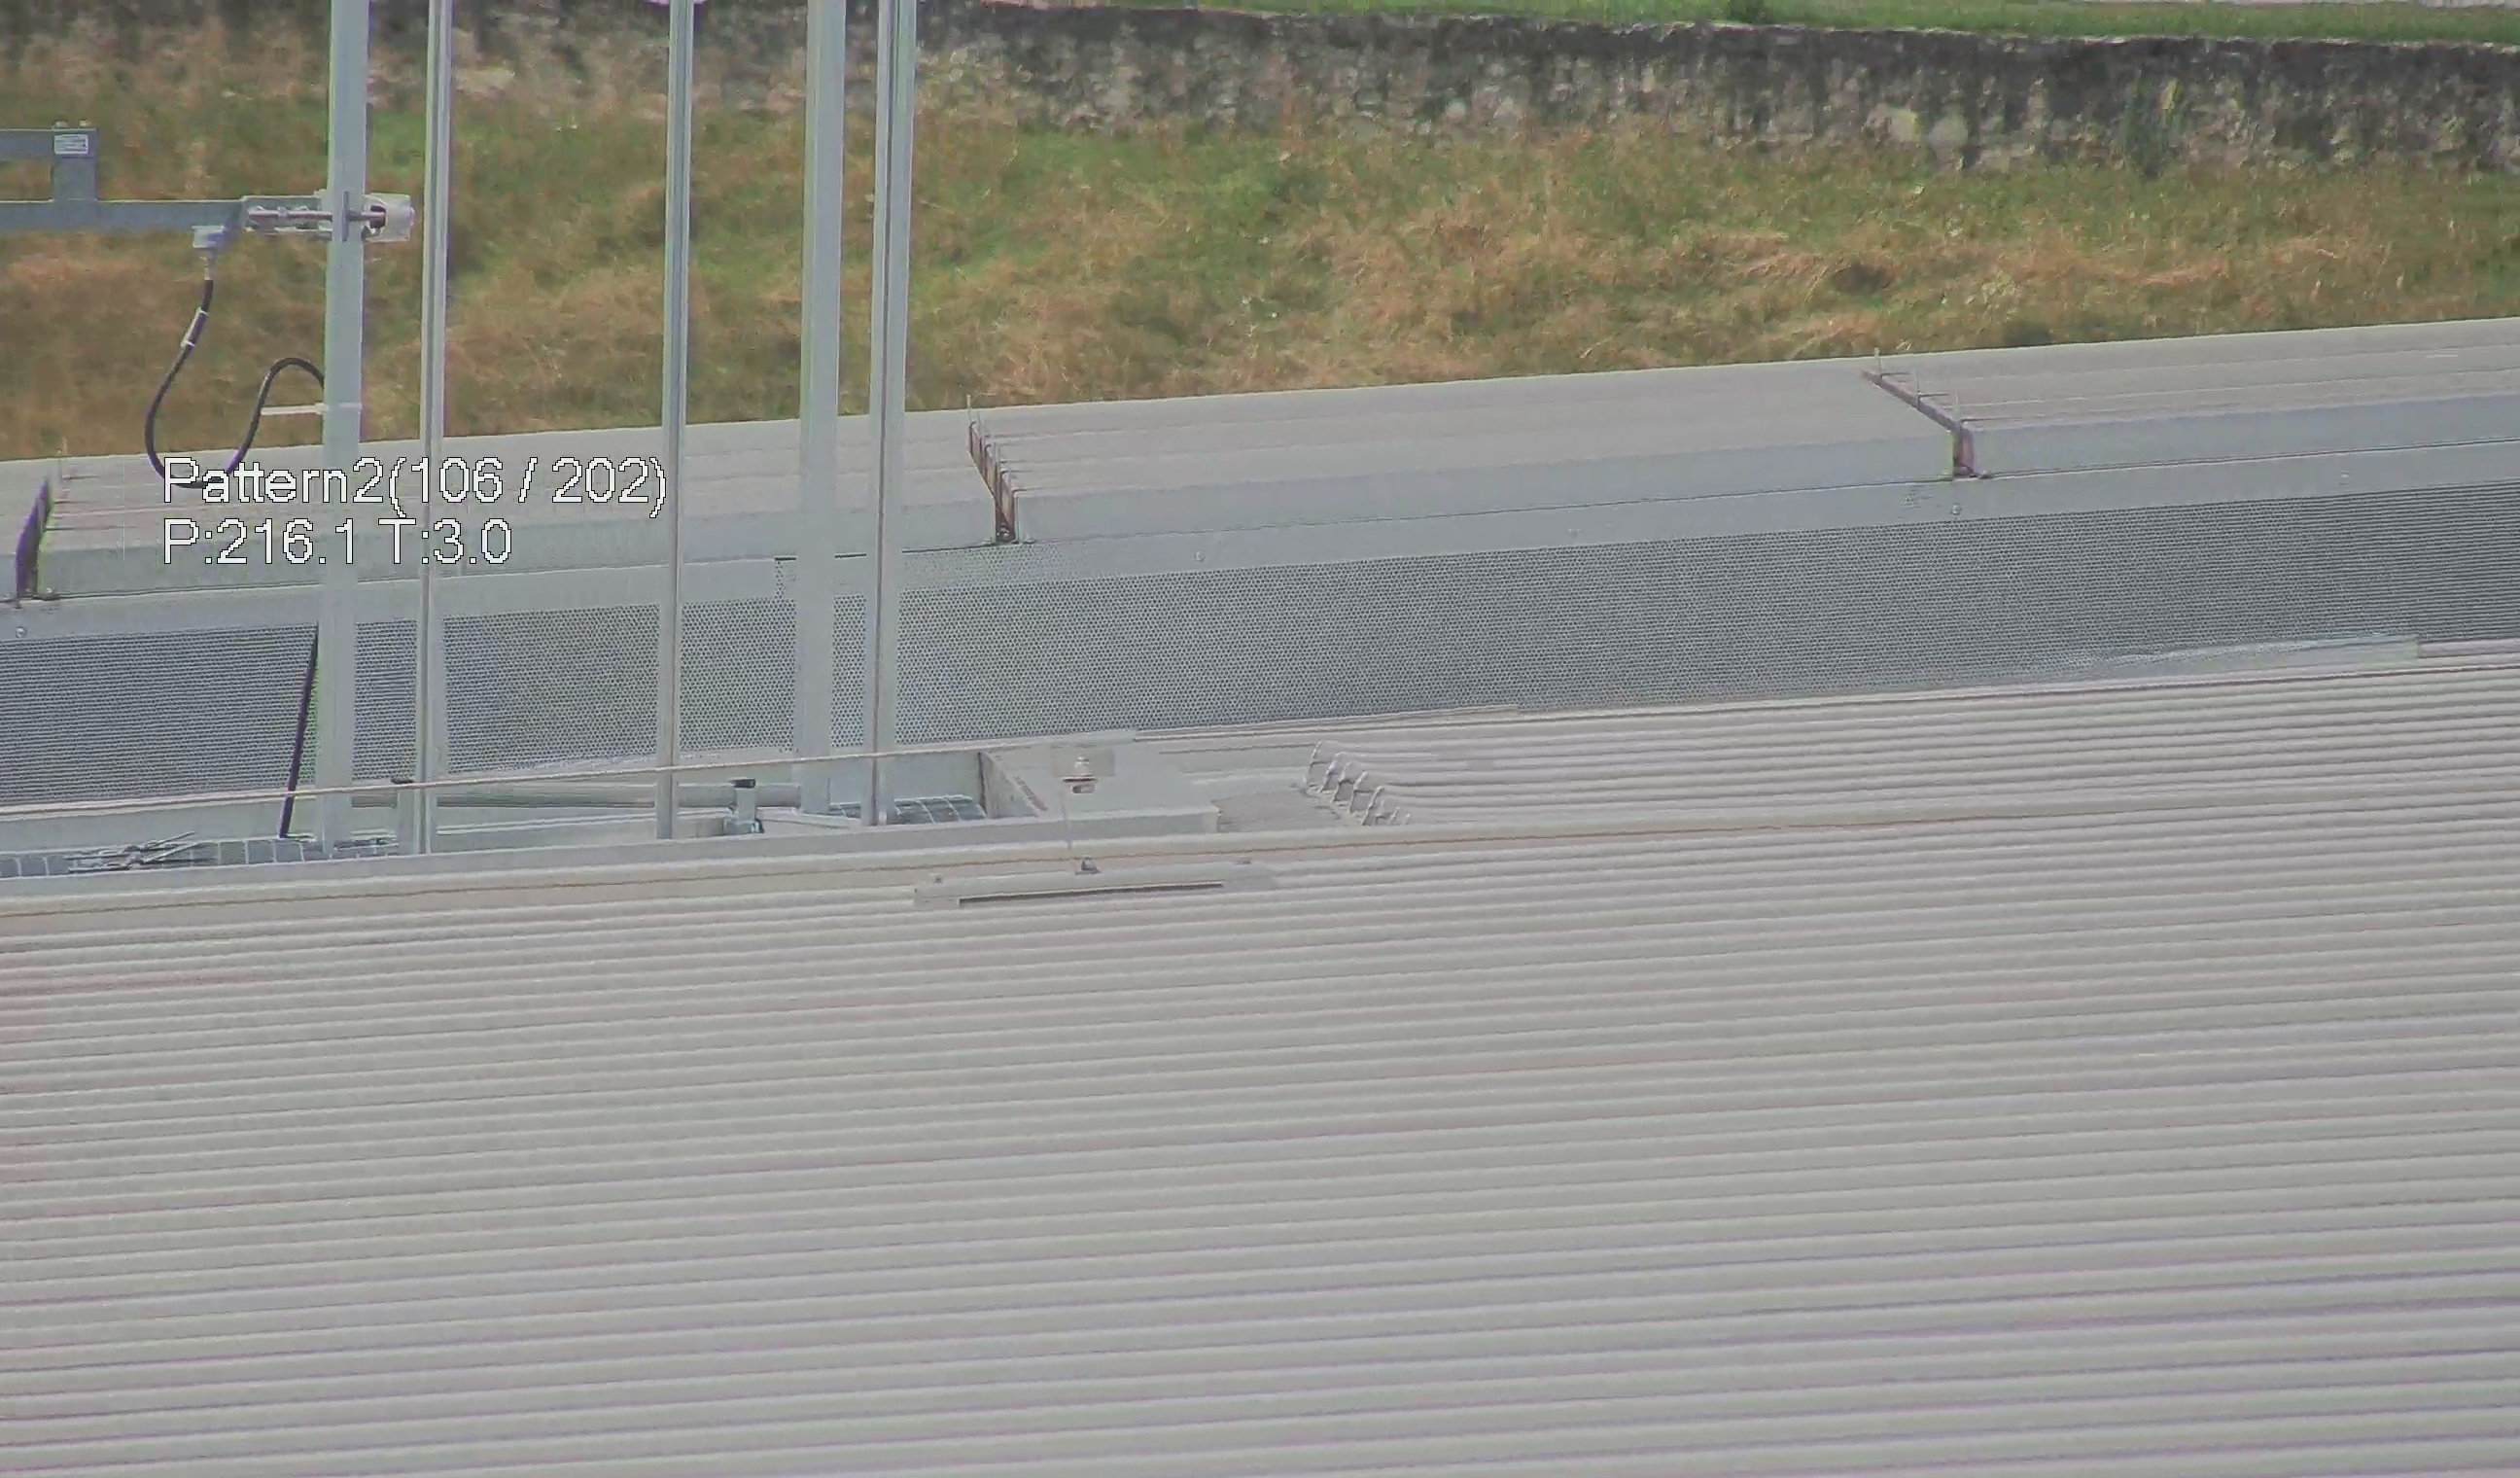Other: (950, 394, 1045, 547)
